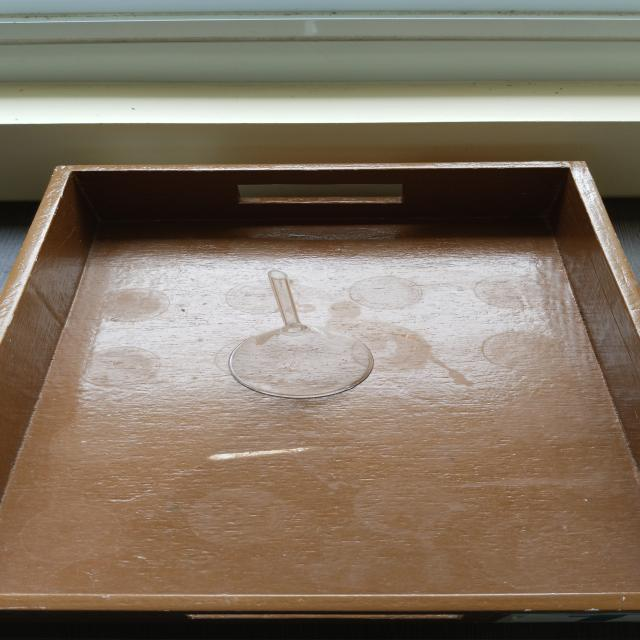funnel: (200, 269, 386, 398)
